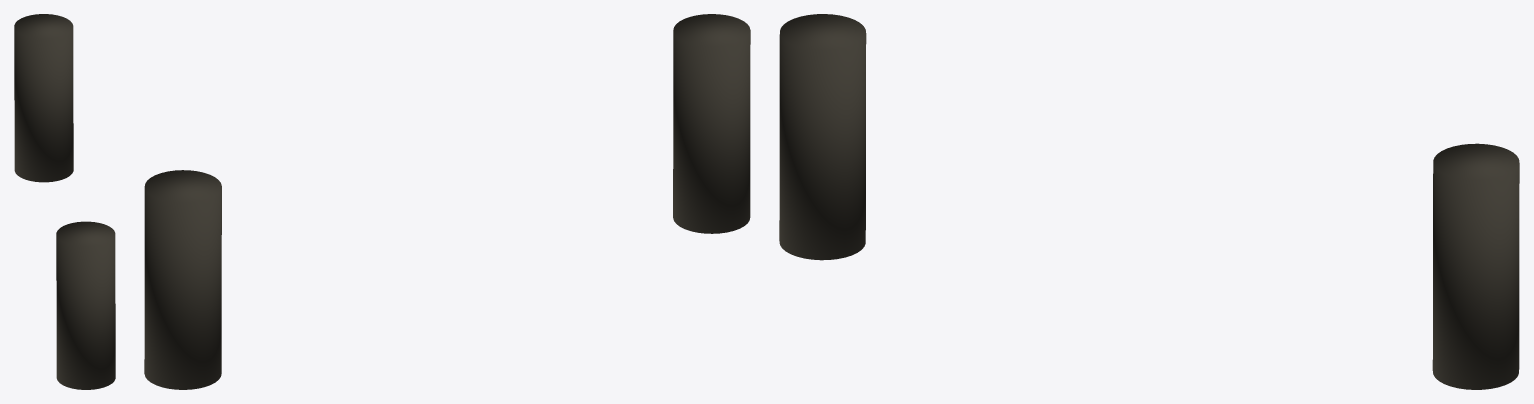
File: circle.049_lev3.glb
The picture shows the model from 3 angles, left to right: view 1: azimuth 30°, elevation 25°; view 2: azimuth 150°, elevation 25°; view 3: azimuth 270°, elevation 25°; orthographic projection. The views are drawn at different scales.
Visible parts, largest first — view 1: circle.049_lev3; view 2: circle.049_lev3; view 3: circle.049_lev3.
Part boxes in pixels (x1,y1,x2,y2): circle.049_lev3: (14, 14, 115, 389); circle.049_lev3: (144, 14, 750, 389); circle.049_lev3: (779, 14, 1519, 389).
Size of the model in its own units: 0.2899 by 0.1711 by 0.5458.
1 material, 1 textured.
